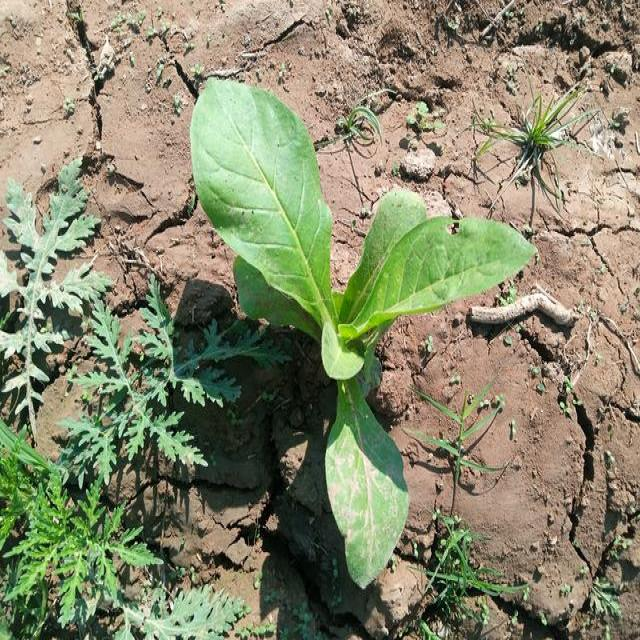crop: (194, 95, 523, 577)
